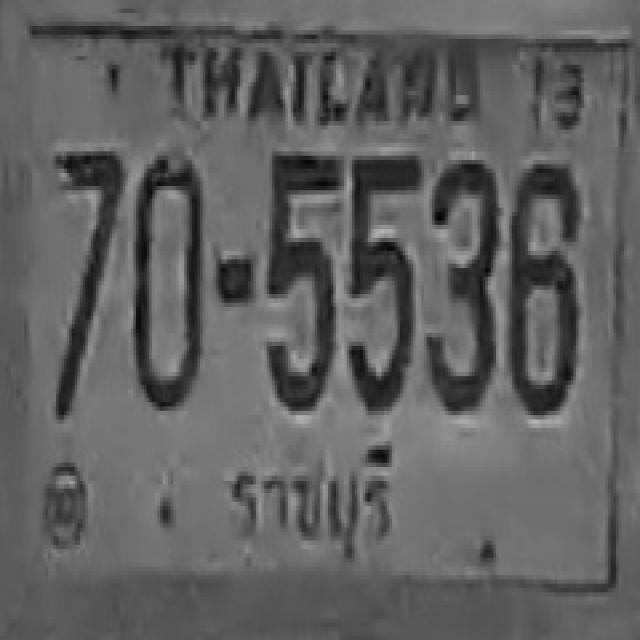0: (130, 149, 202, 409)
3: (426, 154, 498, 408)
5: (265, 147, 340, 407), (348, 149, 420, 409)
6: (506, 158, 578, 413)
7: (53, 147, 123, 415)
RBR: (225, 430, 402, 566)
